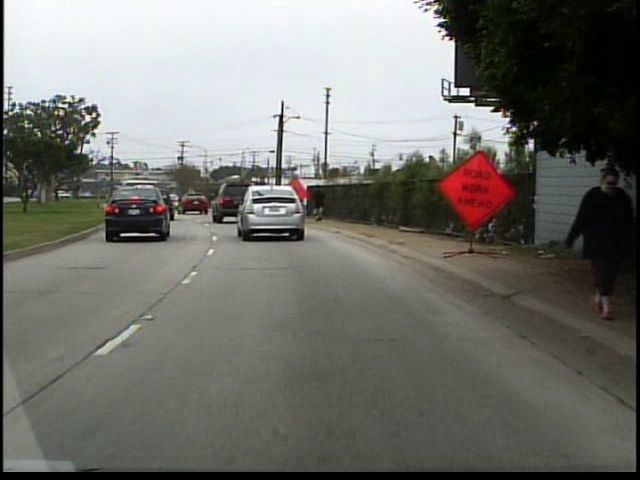person: (555, 155, 626, 317), (310, 183, 326, 223)
